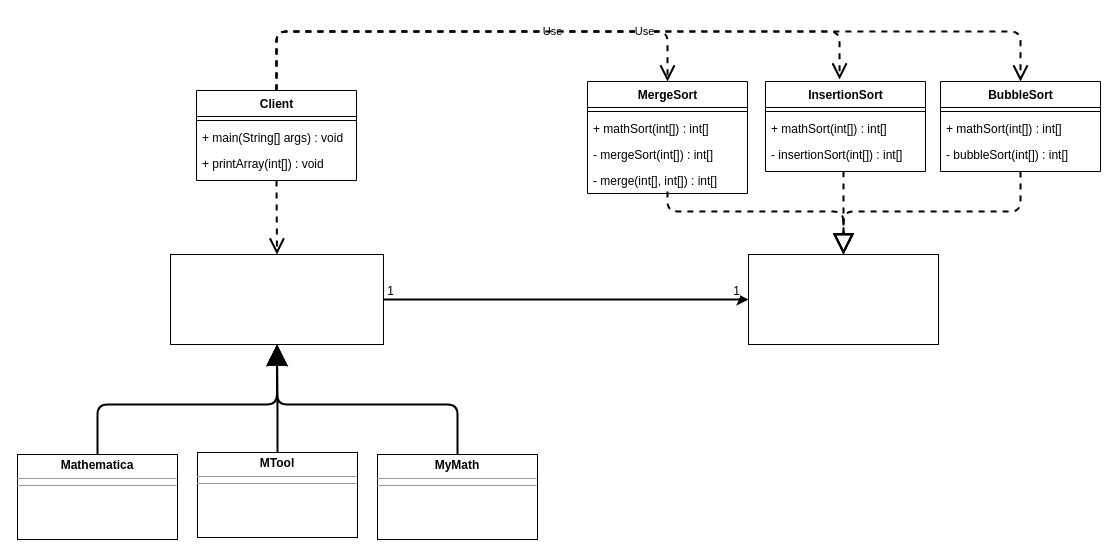
This 1118x557 diagram has some shape labels left out. Each missing label, with the centre of its shape:
"<<Interface>> SortStrategy + mathSort(int[]): int[]" belongs at [843,299].
"MathSoftware - strategy: SortStrategy +setSortStrategy(SortStrategy) : void" belongs at [277,299].
